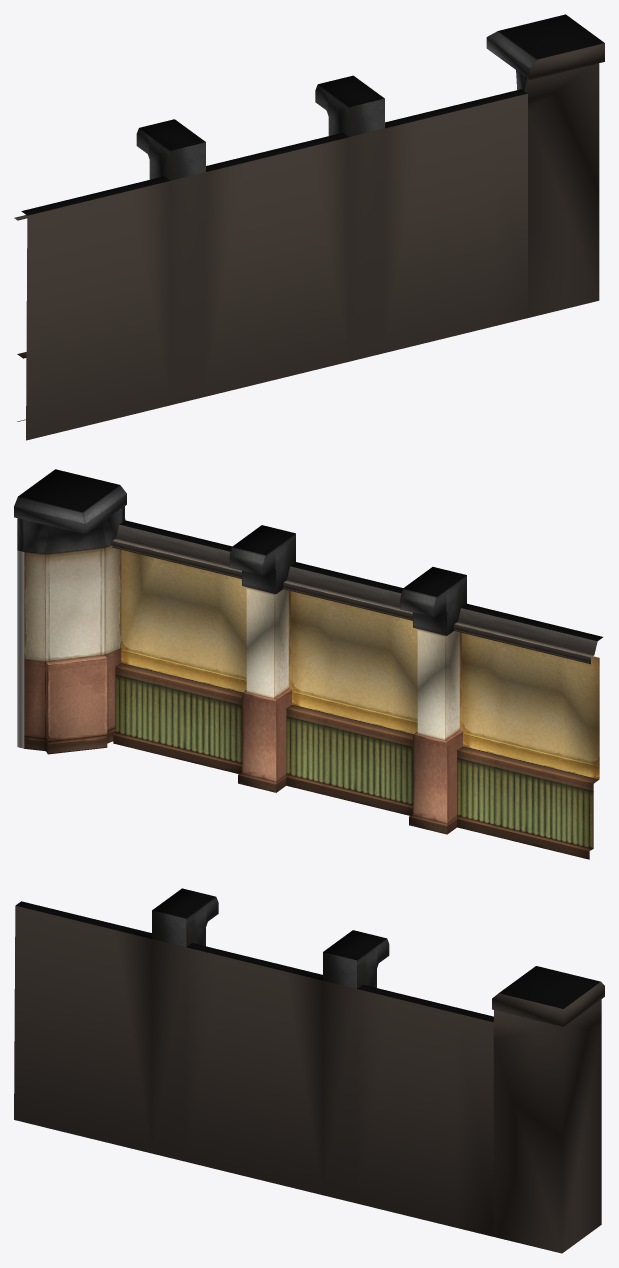
The model's file is a_SWIwall02_13.glb.
3 renders of one model, top to bottom at view 1: azimuth 30°, elevation 25°; view 2: azimuth 150°, elevation 25°; view 3: azimuth 330°, elevation 25°, orthographic. The views are drawn at different scales.
Parts seen in each view (by area): view 1: a_SWIwall02_13; view 2: a_SWIwall02_13; view 3: a_SWIwall02_13.
Part boxes in pixels (box(x1,y1,x2,y2)): a_SWIwall02_13: box(14, 14, 604, 440); a_SWIwall02_13: box(14, 469, 602, 859); a_SWIwall02_13: box(14, 888, 604, 1253).
Size of the model in its own units: 8.07 by 3.45 by 1.05.
4 materials, 4 textured.
